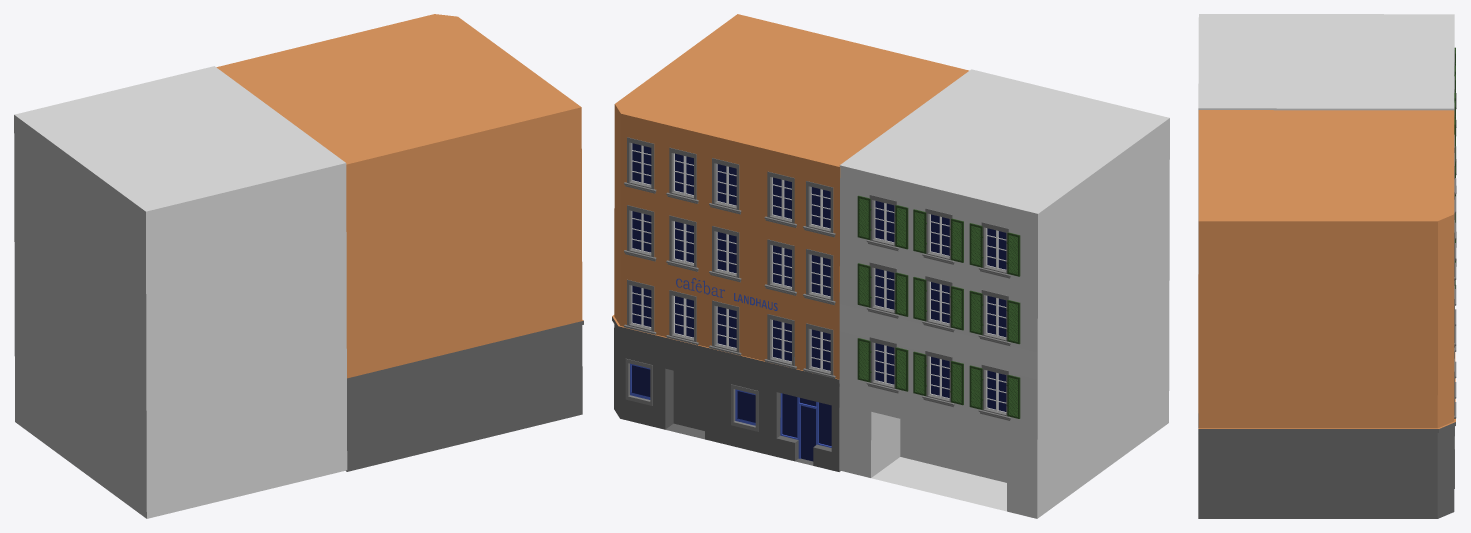
File: CafebarLandhaus.fbx
The picture shows the model from 3 angles, left to right: view 1: azimuth 30°, elevation 25°; view 2: azimuth 150°, elevation 25°; view 3: azimuth 270°, elevation 25°; orthographic projection. The views are drawn at different scales.
Parts seen in each view (by area): view 1: Cube.9086, Cube.9035; view 2: Cube.9086, Cube.9035, Cube.9085, Cube.9061, Cube.9043, Cube.9058, Cube.9046, Cube.9036, Cube.9066, Cube.9051, Cube.9064, Cube.9037 (+21 smaller); view 3: Cube.9035, Cube.9086.
Part boxes in pixels (x1,y1,x2,y2): Cube.9086: (14,66,347,518); Cube.9035: (216,14,583,471); Cube.9086: (839,69,1169,518); Cube.9035: (612,14,969,471); Cube.9085: (782,393,831,461); Cube.9061: (803,249,835,305); Cube.9043: (709,158,741,214); Cube.9058: (709,226,741,282); Cube.9046: (803,181,835,237); Cube.9036: (632,143,651,184); Cube.9066: (632,285,651,326); Cube.9051: (632,211,651,252); Cube.9064: (764,239,796,295); Cube.9037: (624,137,656,193); Cube.9035: (1198,110,1455,518); Cube.9086: (1198,14,1454,273).
Size of the model in its own units: 2220 by 1511 by 1173.
